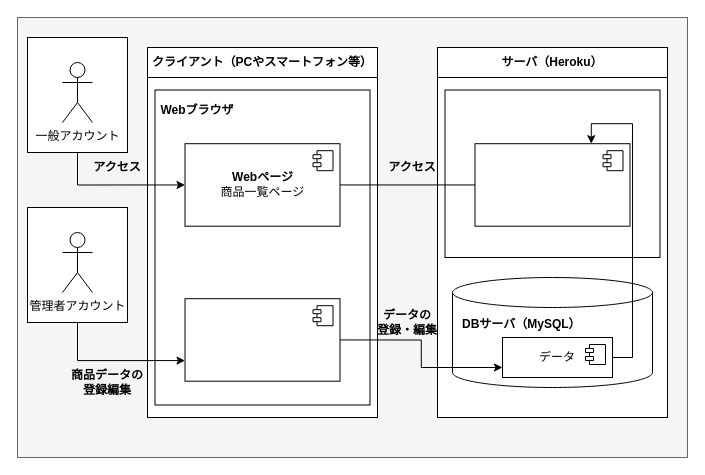
Some shapes in this 705 by 475 pixel diagram are drawn without their labels. Each missing label, with the centre of its shape:
Webサービス: pixel 552 184
Webページ 商品管理ページ: pixel 262 339
